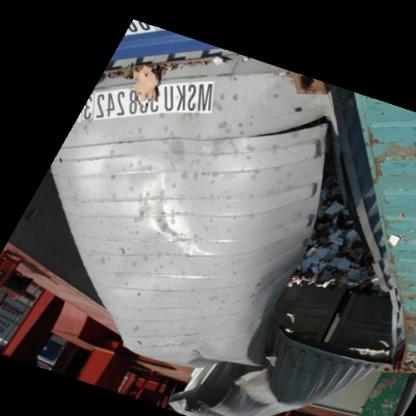Damage: (274, 142, 398, 378), (96, 43, 180, 111)
